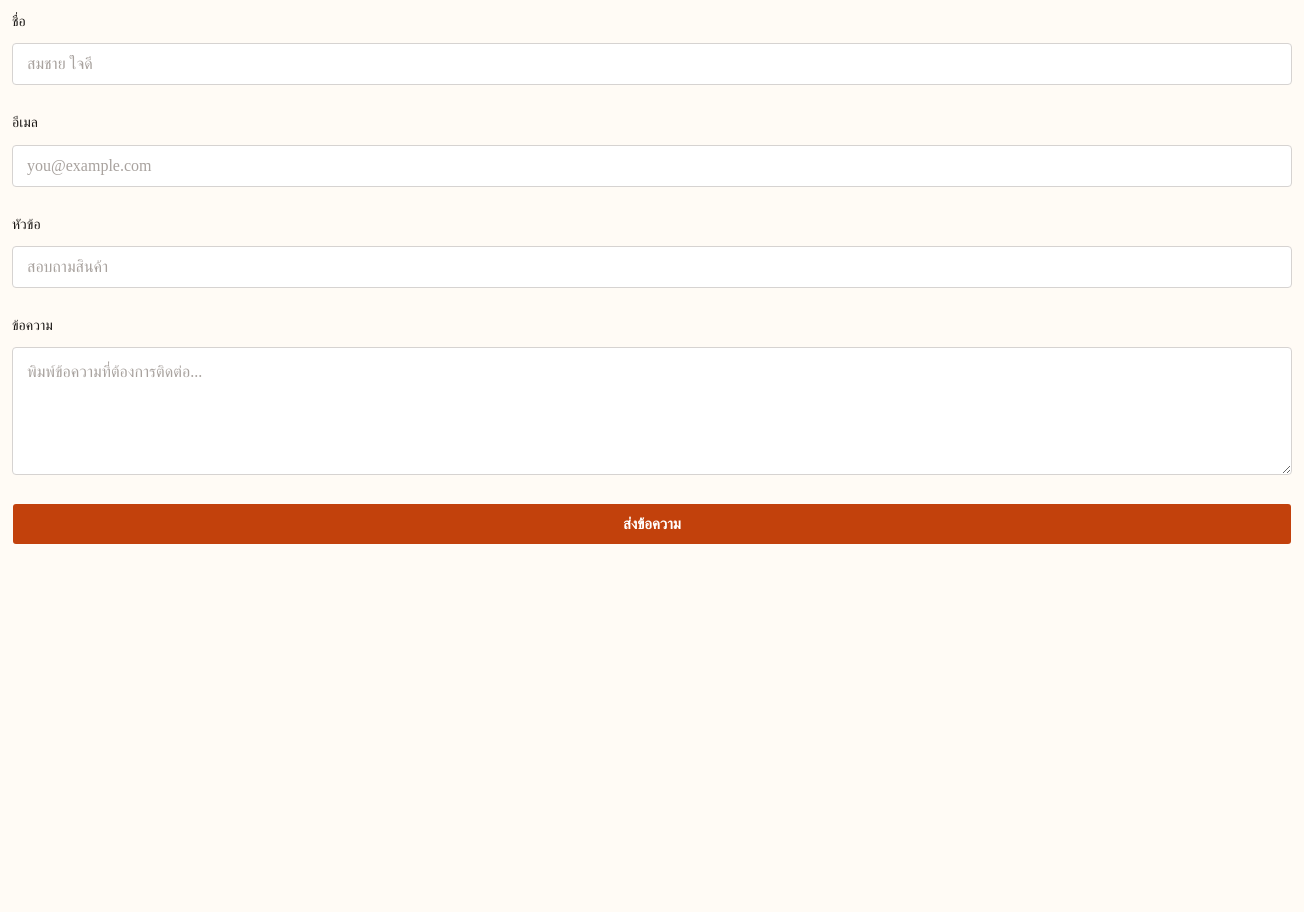
ContactForm › keeps entered values when validation fails
Type "สมชาย" into the field labelled "ชื่อ" at (652, 64), box [12, 43, 1292, 85]
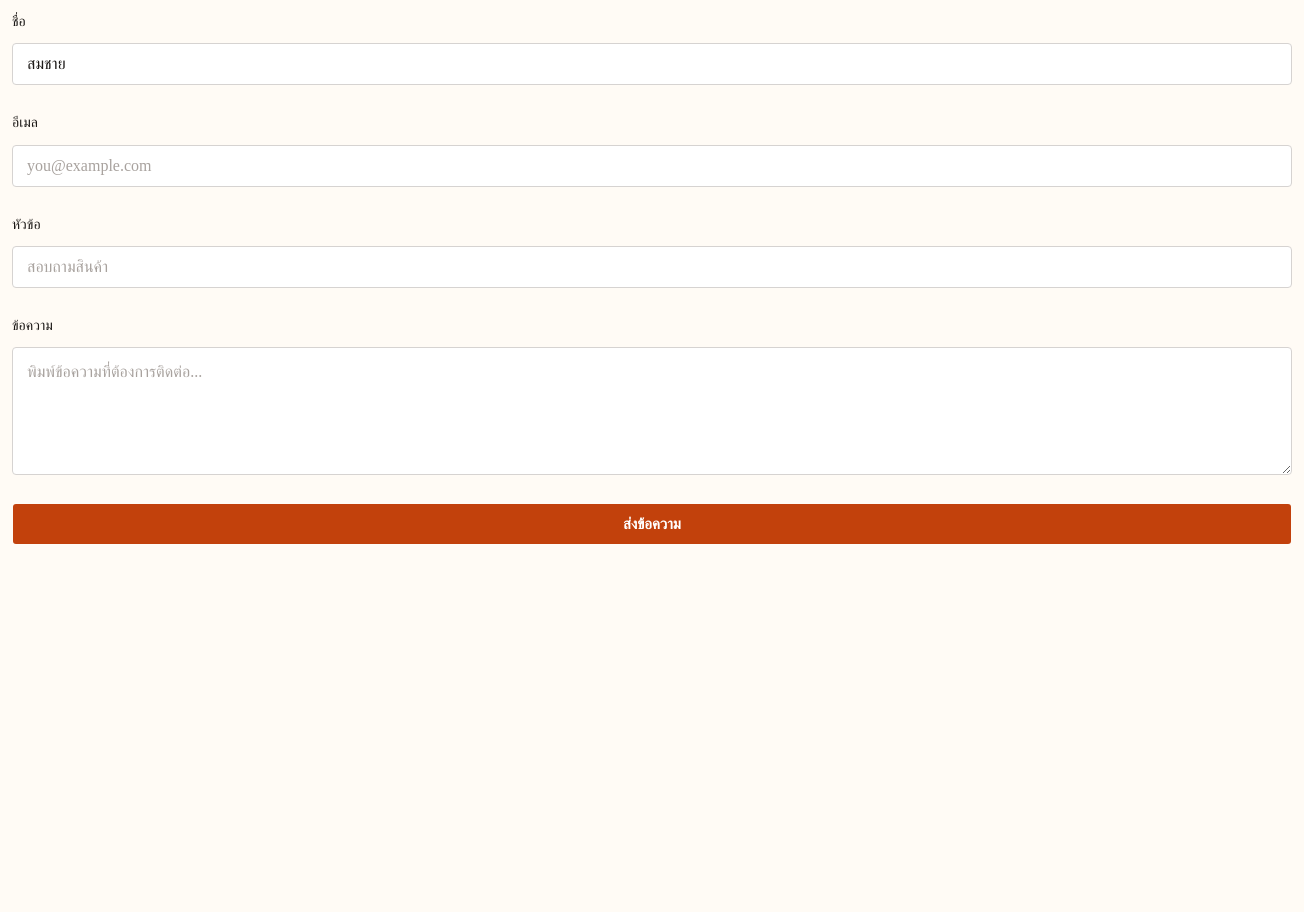
Type "bad-email" into the field labelled "อีเมล" at (652, 166), box [12, 144, 1292, 186]
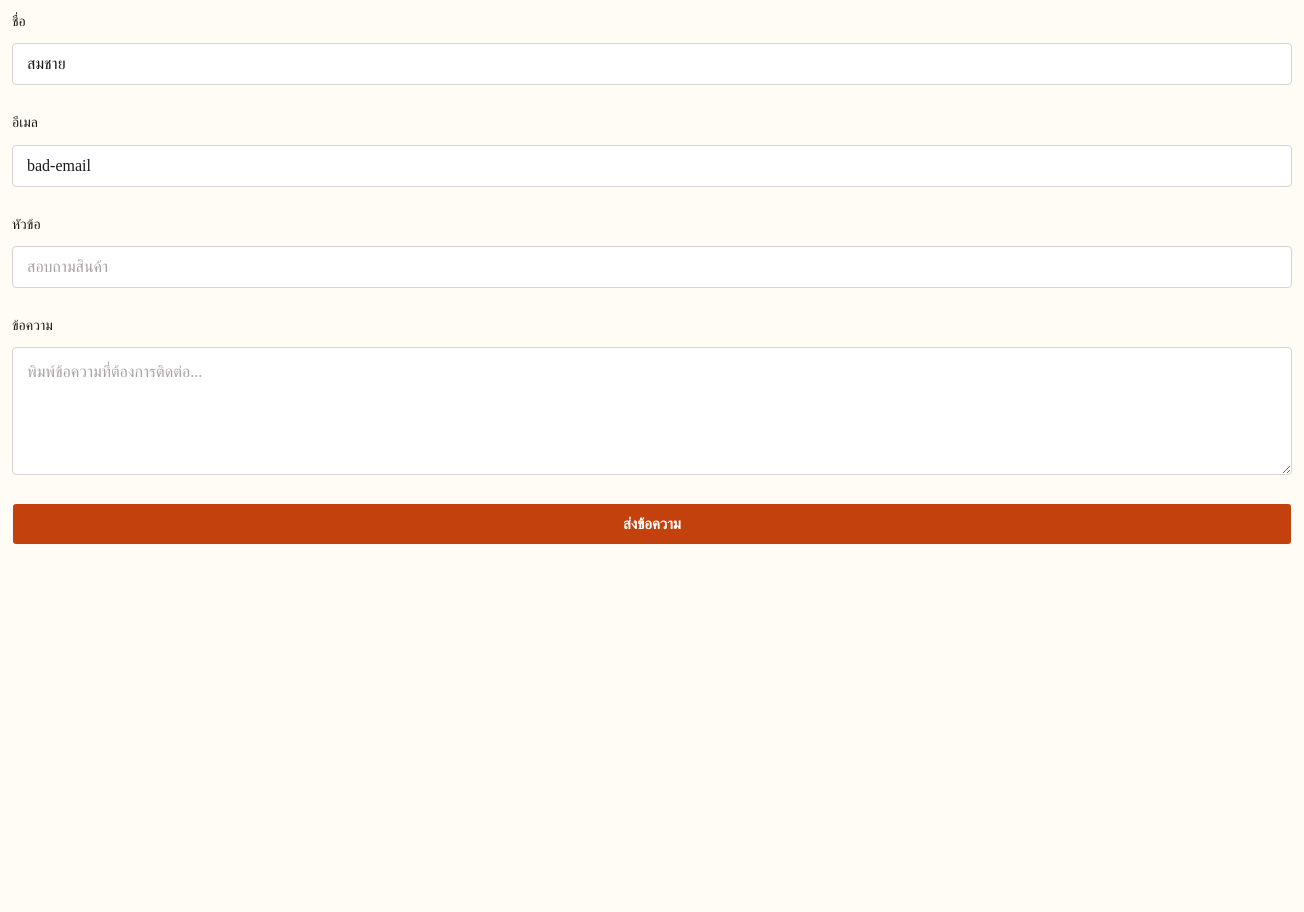
Click the button "ส่งข้อความ" at (652, 524), box [12, 503, 1292, 545]
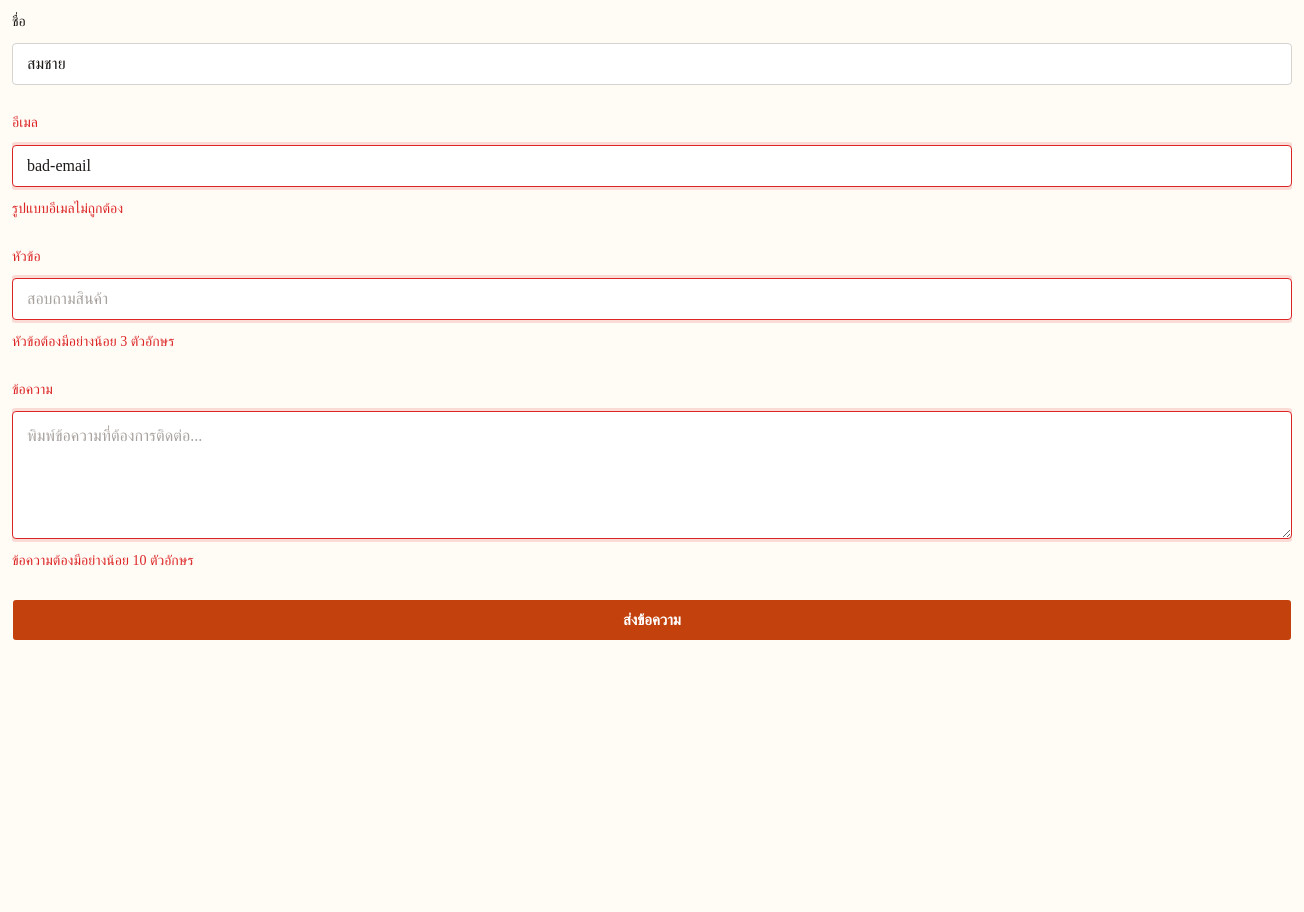
Check: the text "รูปแบบอีเมลไม่ถูกต้อง" is shown, box [12, 200, 123, 216]
